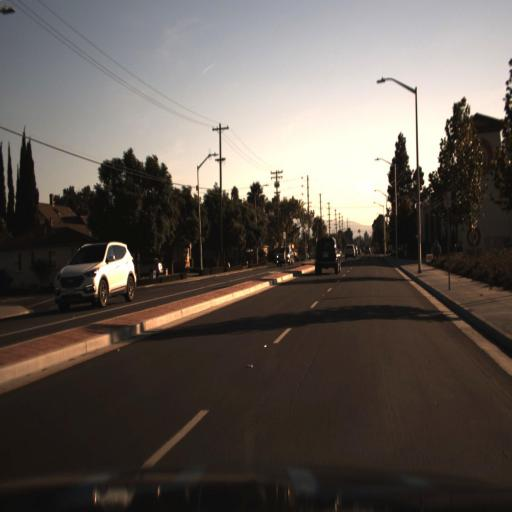car: (54, 240, 137, 309), (308, 229, 343, 285), (312, 235, 342, 275), (274, 242, 294, 272), (343, 238, 359, 261)
